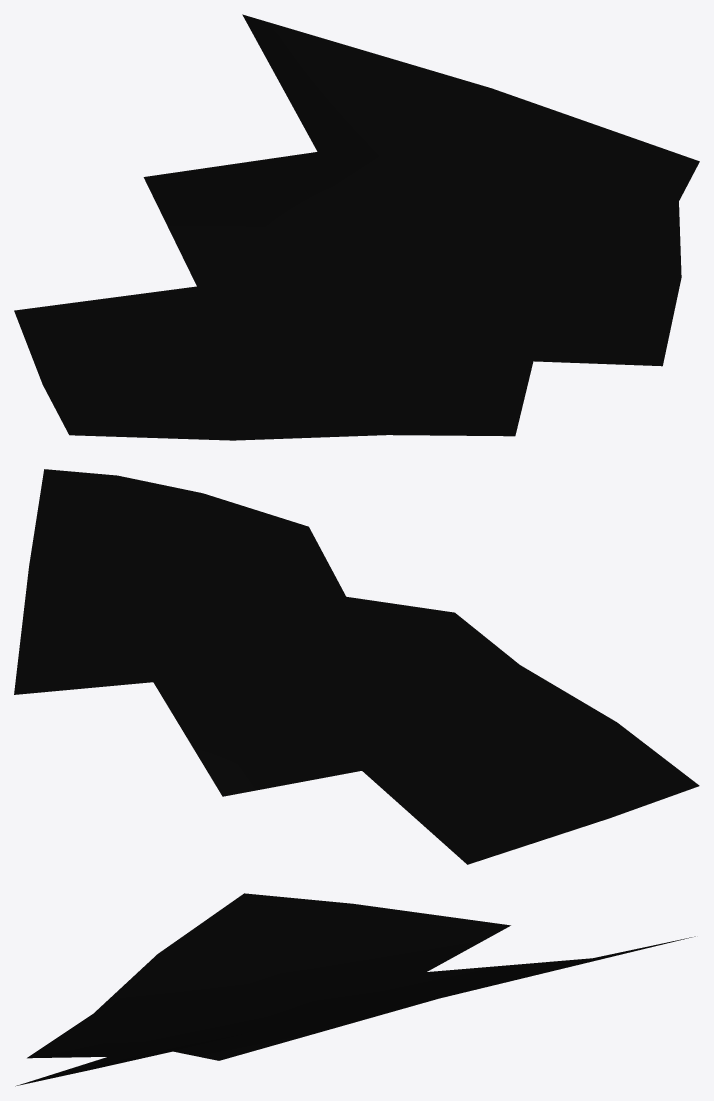
File: HTOWN01_TREESHADOWS19.fbx
3 renders of one model, top to bottom at view 1: azimuth 30°, elevation 25°; view 2: azimuth 150°, elevation 25°; view 3: azimuth 270°, elevation 25°, orthographic. The views are drawn at different scales.
Parts seen in each view (by area): view 1: HTOWN01_TREESHADOWS19; view 2: HTOWN01_TREESHADOWS19; view 3: HTOWN01_TREESHADOWS19.
Part boxes in pixels (x1,y1,x2,y2): HTOWN01_TREESHADOWS19: (14, 14, 699, 440); HTOWN01_TREESHADOWS19: (14, 469, 699, 864); HTOWN01_TREESHADOWS19: (15, 893, 695, 1086).
Bounding box in the file's own units: 238149 × 57912 × 231220.
1 material, 1 textured.
